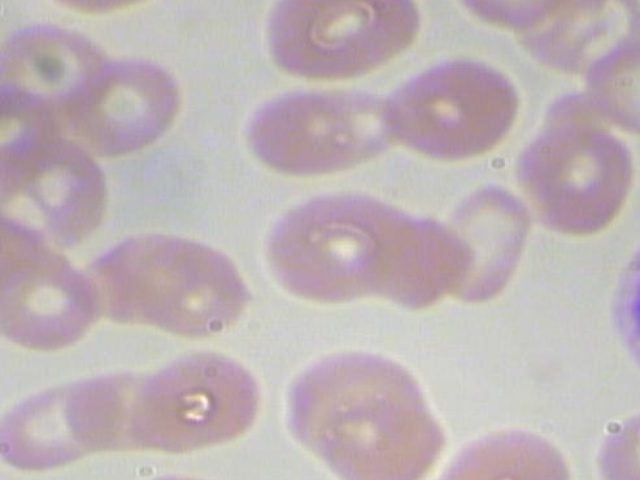RBC: (250, 184, 430, 314), (237, 73, 400, 177), (515, 116, 640, 245), (126, 345, 265, 457), (381, 55, 521, 161), (305, 378, 443, 480), (261, 0, 425, 85), (431, 177, 530, 306), (58, 56, 186, 155), (0, 254, 100, 353), (0, 82, 64, 175), (584, 35, 640, 141), (589, 401, 640, 480)
WBC: (609, 211, 640, 409)
